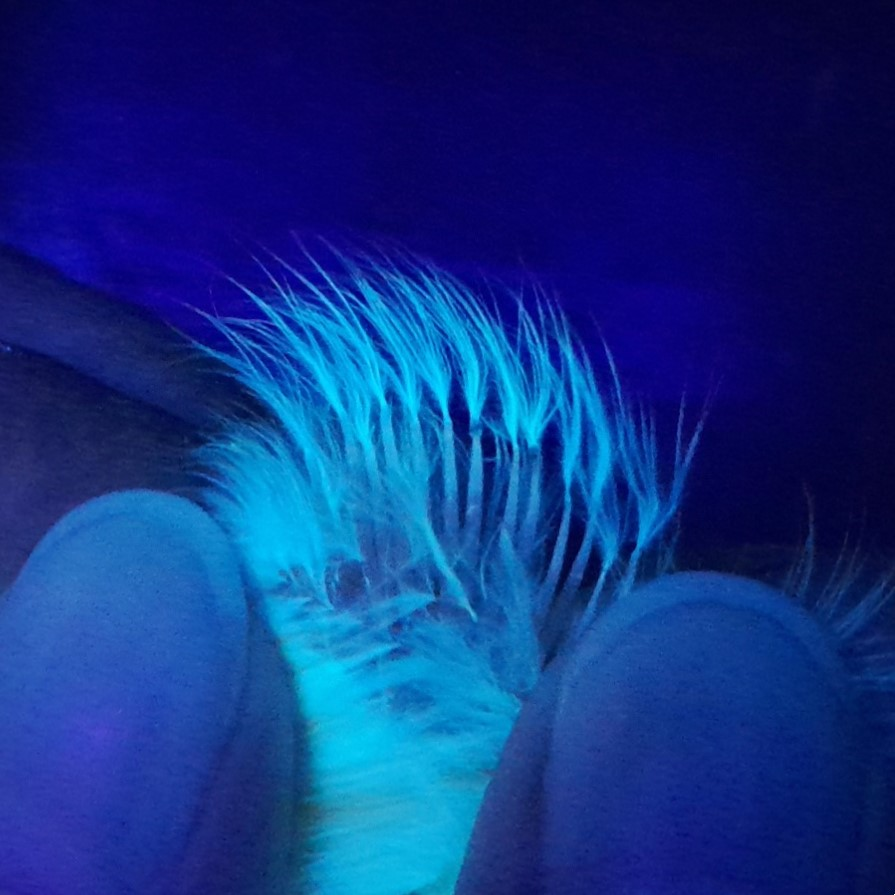male: (253, 358, 638, 710)
